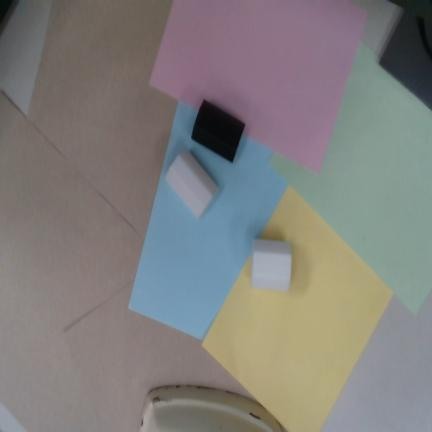Prisma_hexagonal: (164, 151, 221, 220), (190, 99, 245, 164), (251, 239, 292, 291)
